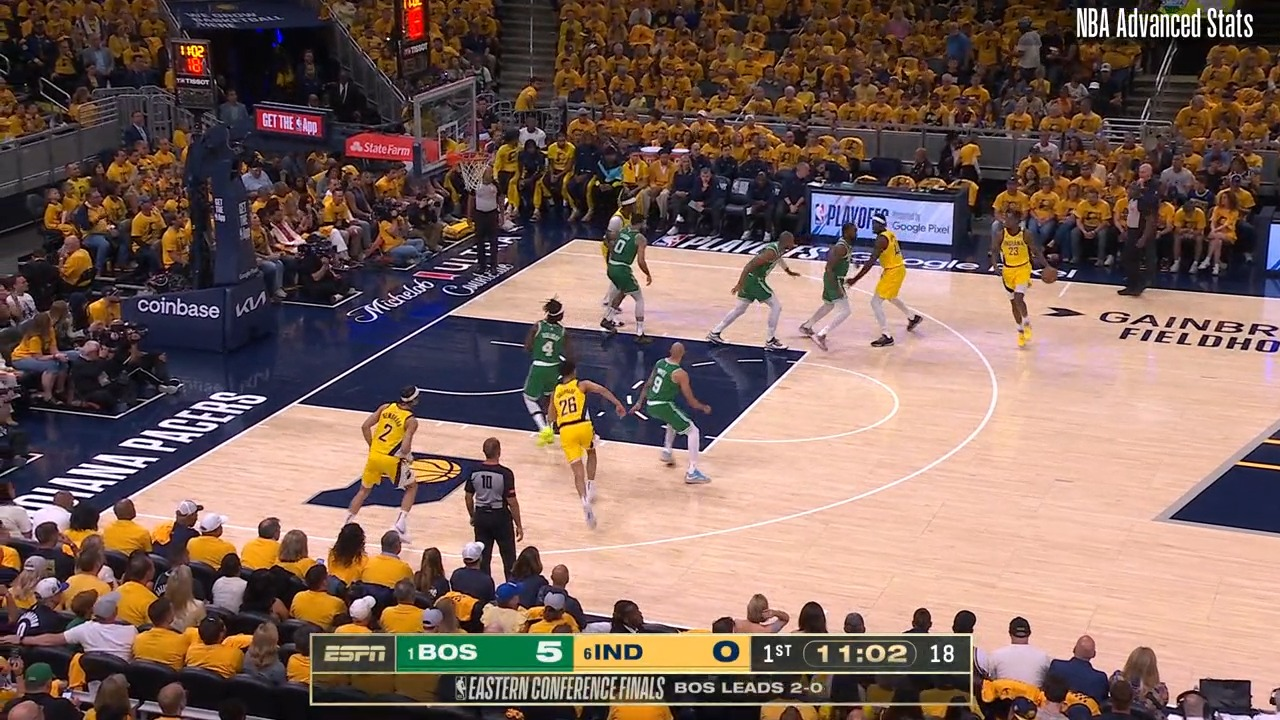basketball: (1040, 264, 1059, 286)
